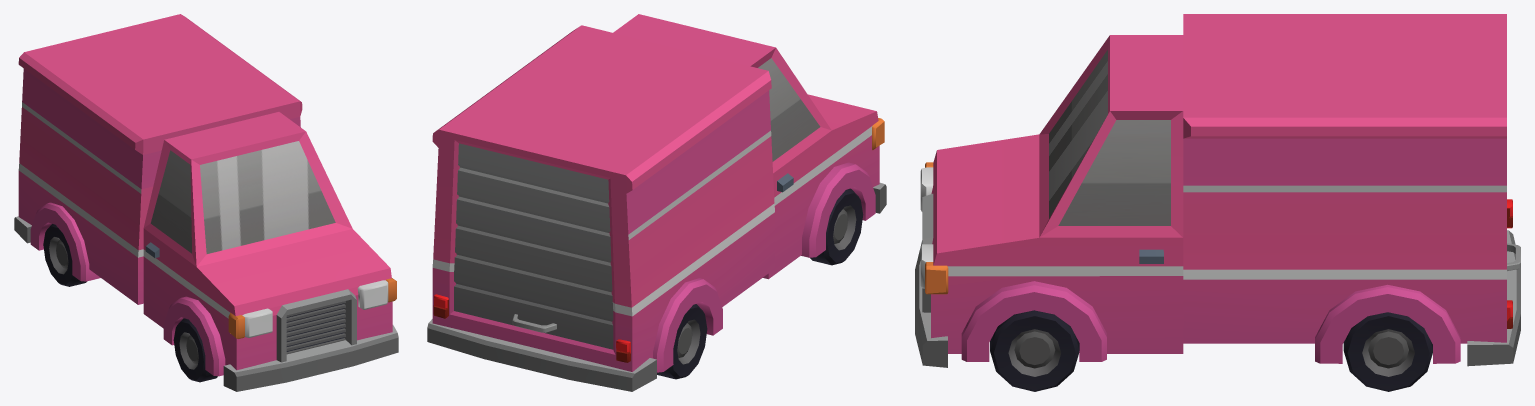
The model's file is PostCar_15.glb.
The picture shows the model from 3 angles, left to right: view 1: azimuth 30°, elevation 25°; view 2: azimuth 150°, elevation 25°; view 3: azimuth 270°, elevation 25°; orthographic projection. The views are drawn at different scales.
Visible parts, largest first — view 1: PostCar_15, Wheel_FR, Wheel_BR; view 2: PostCar_15, Wheel_FR, Wheel_BR; view 3: PostCar_15, Wheel_FL, Wheel_BL.
Part boxes in pixels (bbox=[...]): PostCar_15: bbox=[14, 14, 398, 391]; Wheel_FR: bbox=[173, 318, 217, 382]; Wheel_BR: bbox=[43, 224, 86, 286]; PostCar_15: bbox=[427, 14, 886, 391]; Wheel_FR: bbox=[810, 188, 863, 265]; Wheel_BR: bbox=[657, 304, 707, 379]; PostCar_15: bbox=[915, 14, 1520, 367]; Wheel_FL: bbox=[990, 310, 1079, 391]; Wheel_BL: bbox=[1343, 312, 1432, 391].
Bounding box in the file's own units: 1.18 × 1.24 × 2.51.
5 materials, 5 textured.
